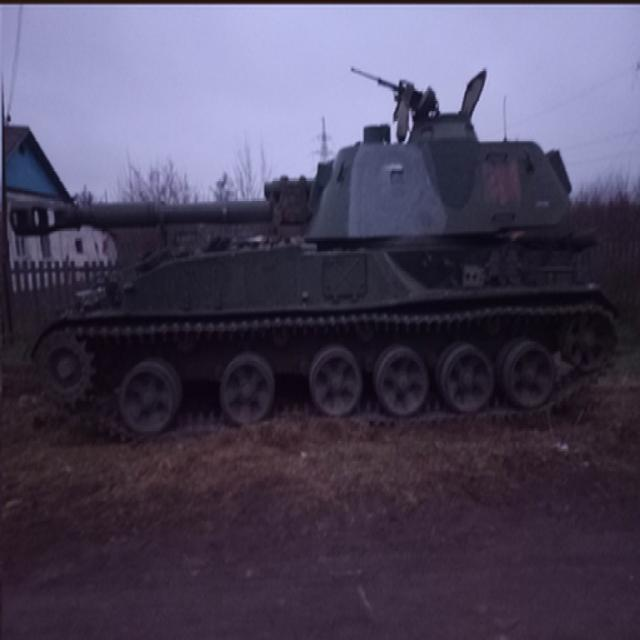ART: (5, 62, 619, 447)
